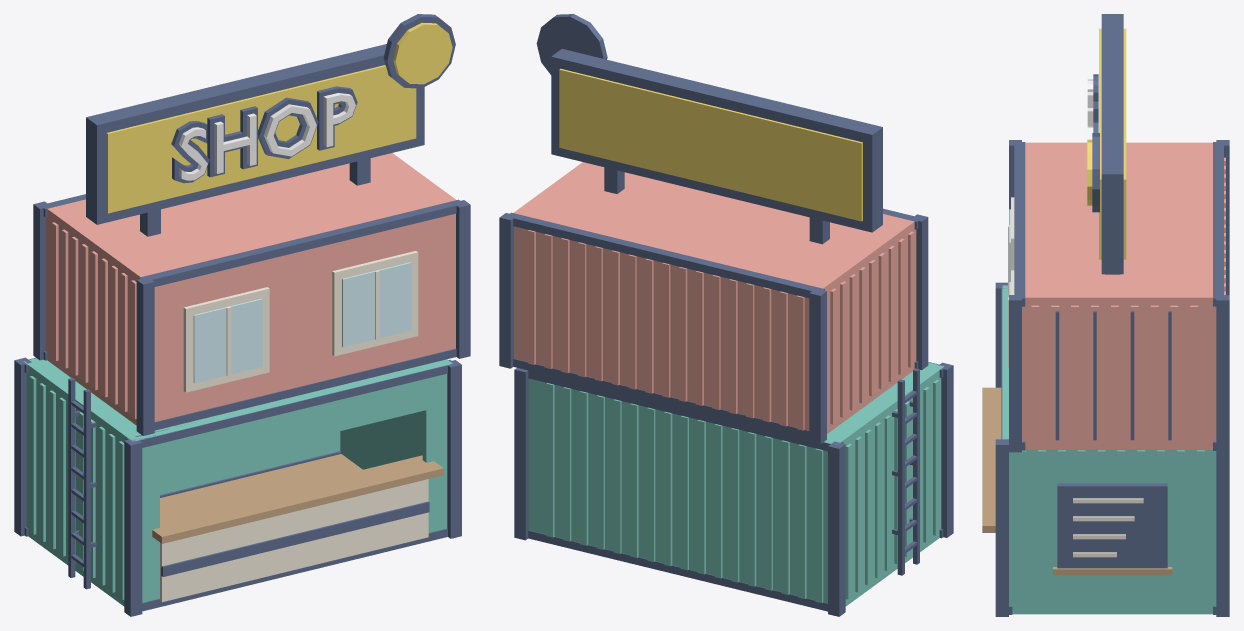
File: Tienda.fbx
3 renders of one model, left to right at view 1: azimuth 30°, elevation 25°; view 2: azimuth 150°, elevation 25°; view 3: azimuth 270°, elevation 25°, orthographic. The views are drawn at different scales.
Parts seen in each view (by area): view 1: Tienda_Coral, Tienda_Marino, Tienda_Menta, Tienda_Amarillo, Tienda_Crema, Tienda_Madera, Tienda_Vidrio, Tienda_Blanco; view 2: Tienda_Coral, Tienda_Menta, Tienda_Marino, Tienda_Amarillo; view 3: Tienda_Coral, Tienda_Marino, Tienda_Menta, Tienda_Madera, Tienda_Crema, Tienda_Amarillo, Tienda_Blanco.
Part boxes in pixels (left/top/right/bottom): Tienda_Coral: left=45, top=153, right=456, bottom=424; Tienda_Marino: left=14, top=14, right=470, bottom=616; Tienda_Menta: left=23, top=358, right=452, bottom=606; Tienda_Amarillo: left=106, top=22, right=452, bottom=213; Tienda_Crema: left=160, top=251, right=428, bottom=602; Tienda_Madera: left=60, top=365, right=443, bottom=543; Tienda_Vidrio: left=193, top=262, right=411, bottom=383; Tienda_Blanco: left=179, top=93, right=355, bottom=180; Tienda_Coral: left=513, top=162, right=916, bottom=433; Tienda_Menta: left=529, top=362, right=943, bottom=606; Tienda_Marino: left=499, top=14, right=953, bottom=616; Tienda_Amarillo: left=559, top=68, right=862, bottom=221; Tienda_Coral: left=1022, top=142, right=1225, bottom=449; Tienda_Marino: left=995, top=14, right=1229, bottom=616; Tienda_Menta: left=1002, top=285, right=1216, bottom=614; Tienda_Madera: left=982, top=387, right=1212, bottom=575; Tienda_Crema: left=1008, top=197, right=1143, bottom=557; Tienda_Amarillo: left=1087, top=28, right=1126, bottom=259; Tienda_Blanco: left=1087, top=79, right=1093, bottom=139.
Size of the model in its own units: 19.87 by 24.2 by 11.2.
